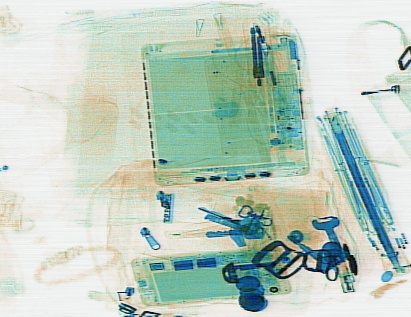lighter: (329, 240, 354, 293)
